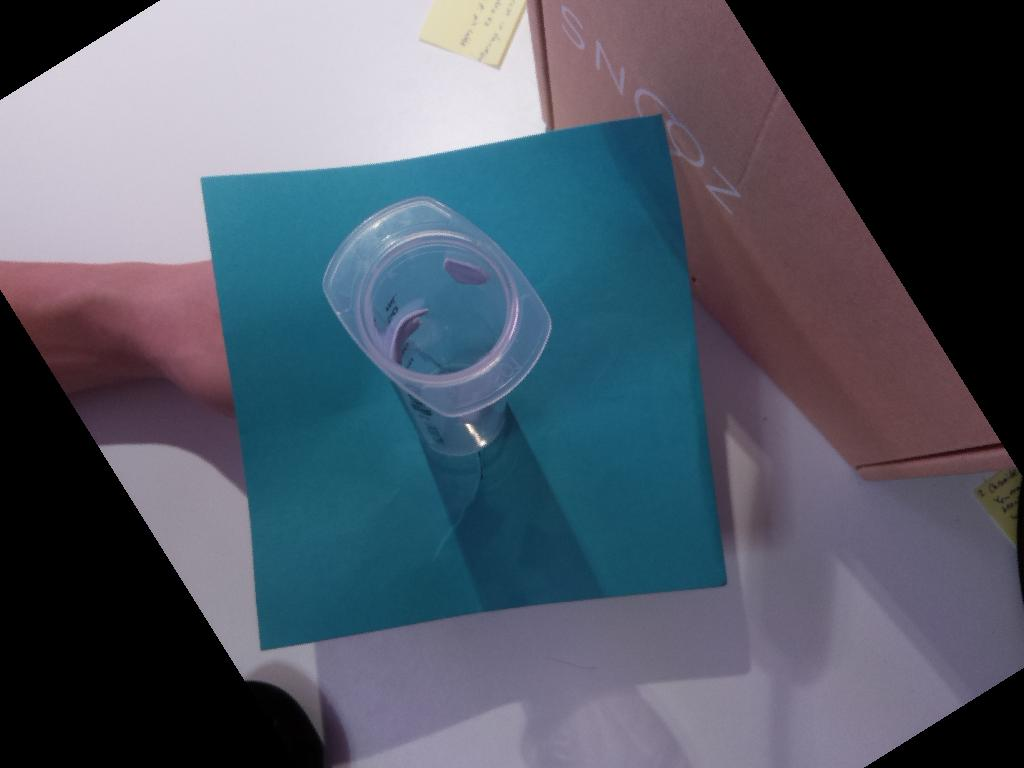dirty: (320, 196, 552, 418)
